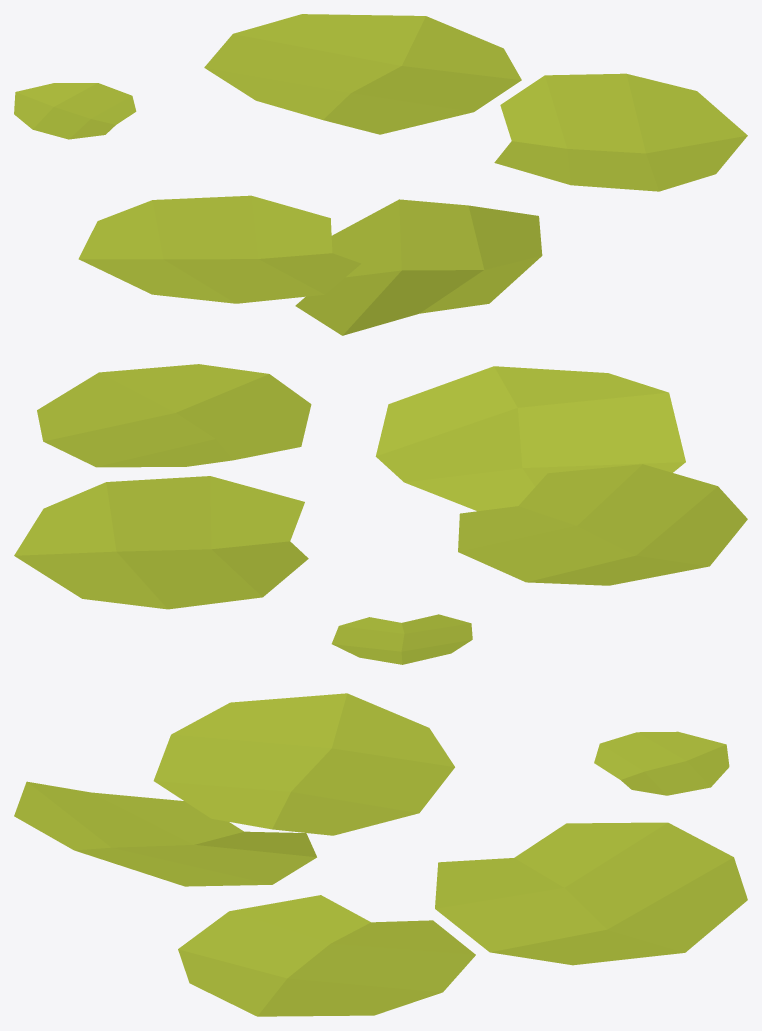
The model's file is Lilly_leaves_3.fbx.
The picture shows the model from 3 angles, top to bottom: view 1: azimuth 30°, elevation 25°; view 2: azimuth 150°, elevation 25°; view 3: azimuth 270°, elevation 25°; orthographic projection. The views are drawn at different scales.
Parts seen in each view (by area): view 1: Lilly_leaves_3; view 2: Lilly_leaves_3; view 3: Lilly_leaves_3.
Part boxes in pixels (x1=…): Lilly_leaves_3: x1=14, y1=14, x2=747, y2=335; Lilly_leaves_3: x1=14, y1=364, x2=747, y2=664; Lilly_leaves_3: x1=14, y1=693, x2=747, y2=1016.
Bounding box in the file's own units: 0.0562 × 0.00419 × 0.0532.
Materials: 1 (1 with a texture image).
